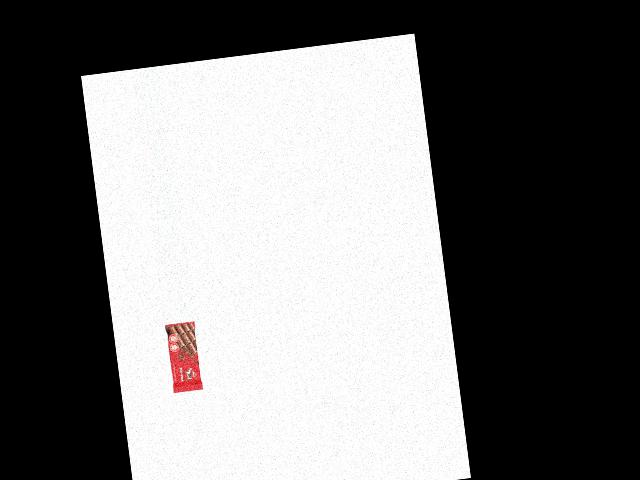chocolate: (164, 321, 203, 394)
